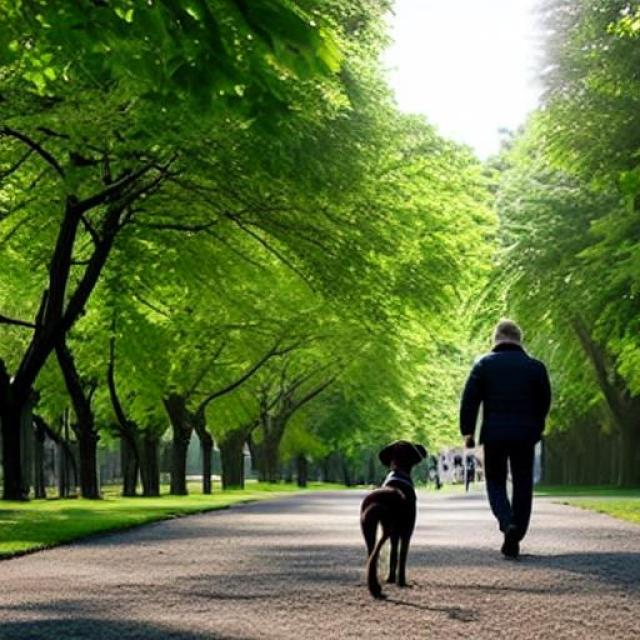Unleashed_Dog: (362, 437, 534, 600)
